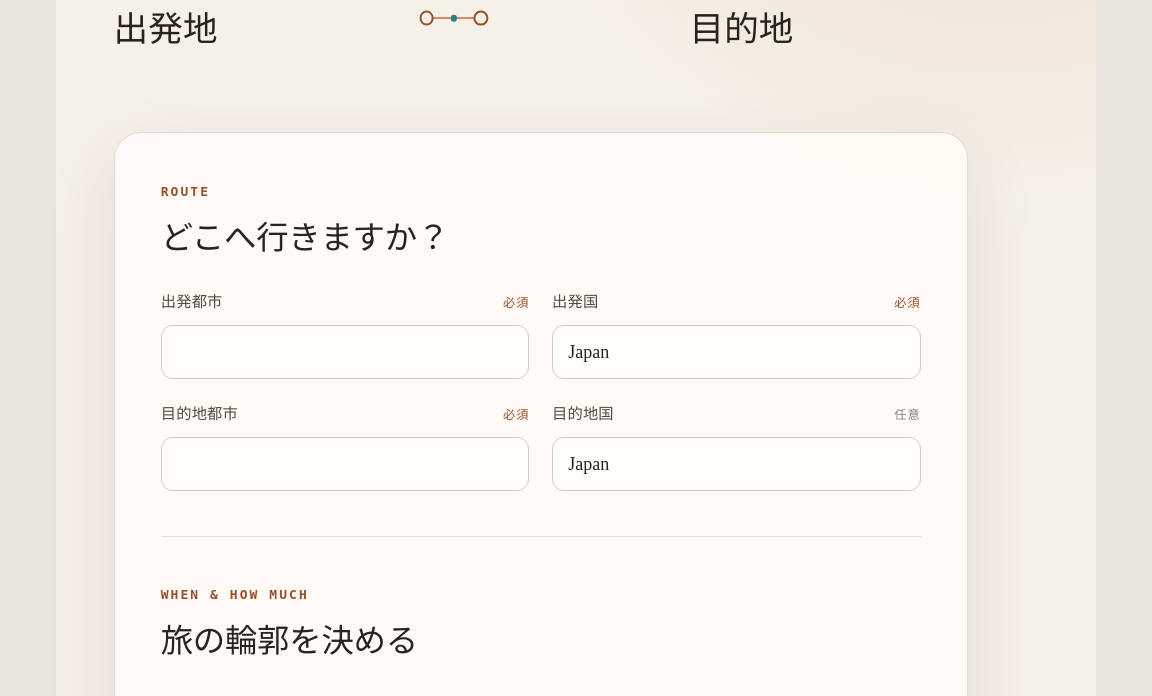
it: JourneyCreationPage › 異常系: 作成失敗時は再送で新しいリクエストになる可能性を知らせる
The image size is (1152, 696).
(page scrolled)
Type "千葉" into the field labelled "出発都市 必須" at (345, 352), box left=161, top=325, right=530, bottom=379
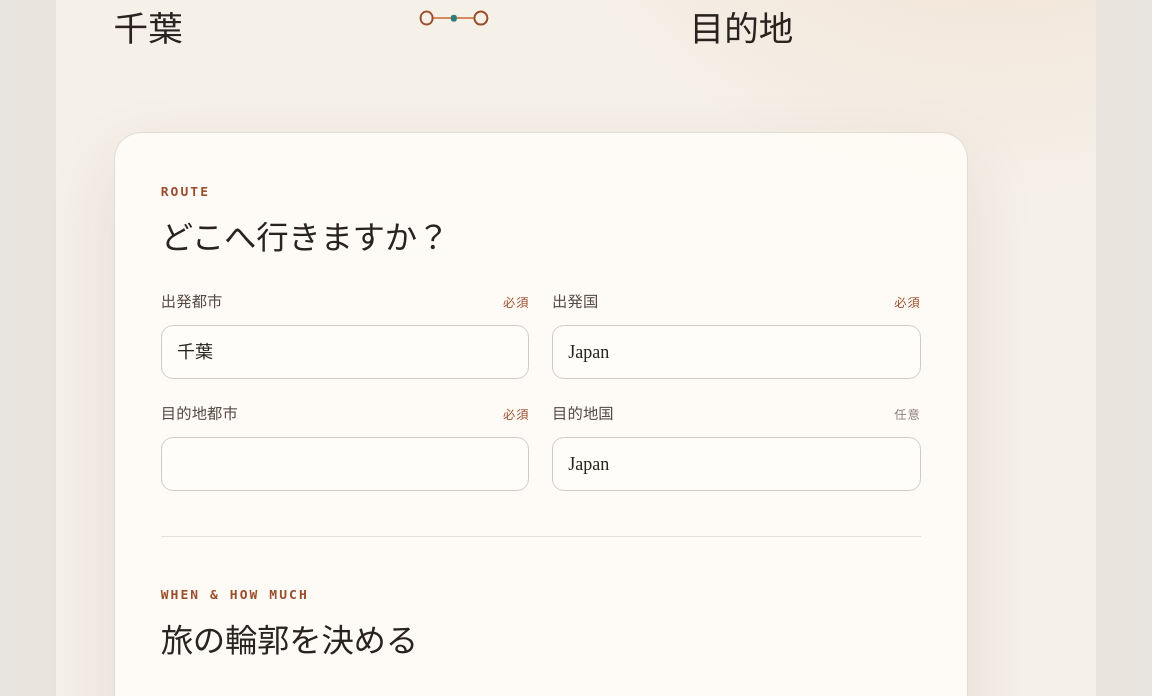
Type "宇都宮" into the field labelled "目的地都市 必須" at (345, 464), box left=161, top=437, right=530, bottom=491
(page scrolled)
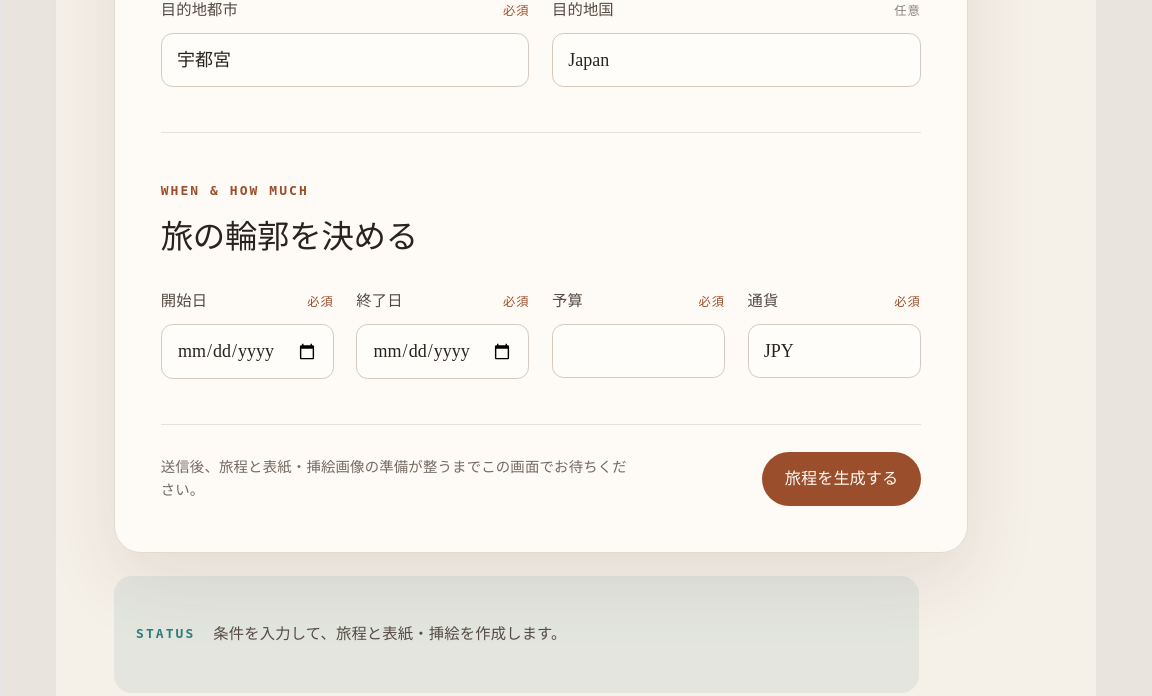
Type "2026-10-23" into the date field with id "journey-start_date" at (247, 352), box left=161, top=324, right=334, bottom=379
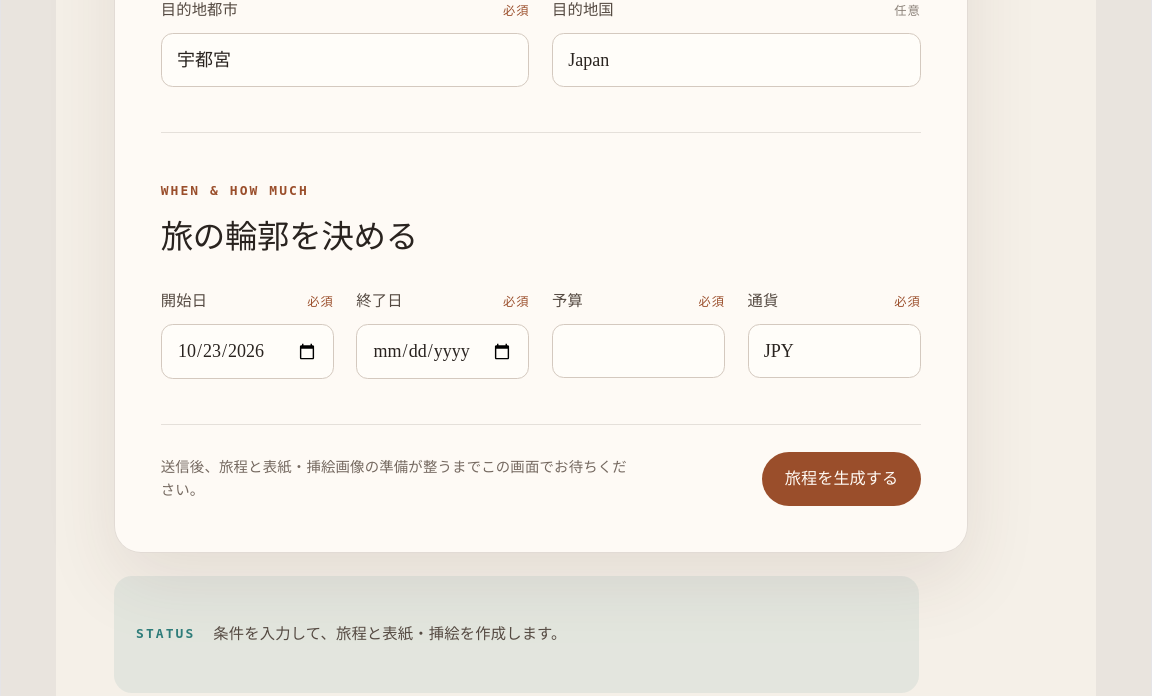
Type "2026-10-25" into the date field with id "journey-end_date" at (443, 352), box left=356, top=324, right=529, bottom=379
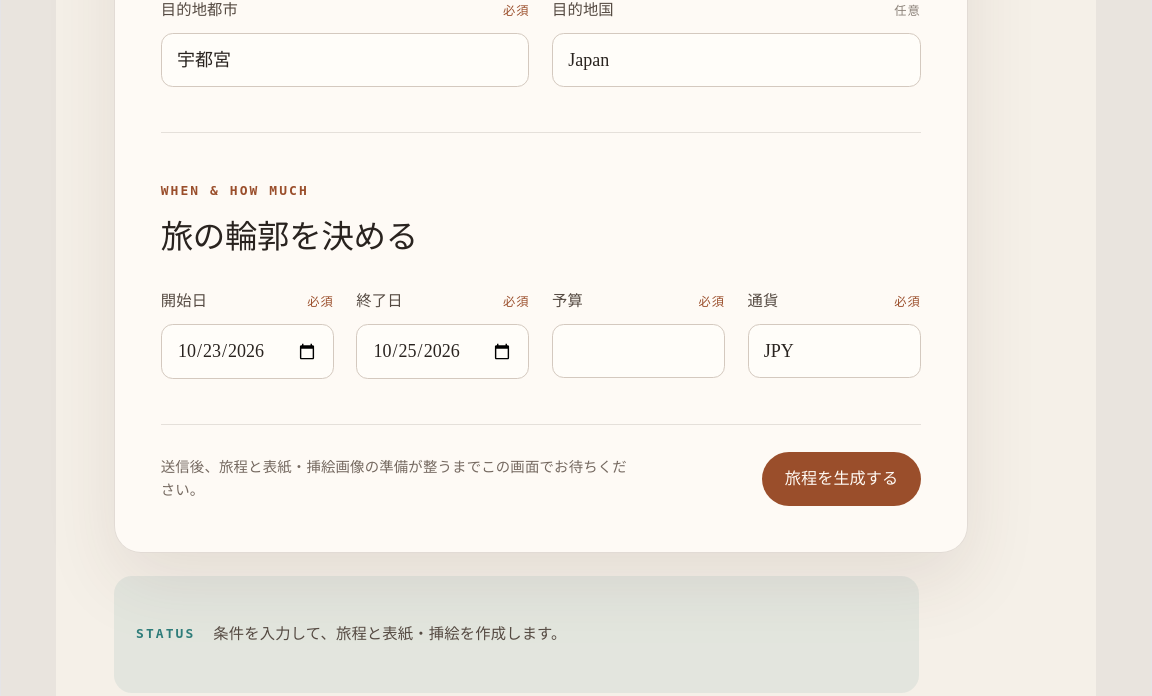
Type "90000" into the number field labelled "予算 必須" at (638, 351), box left=552, top=324, right=725, bottom=378
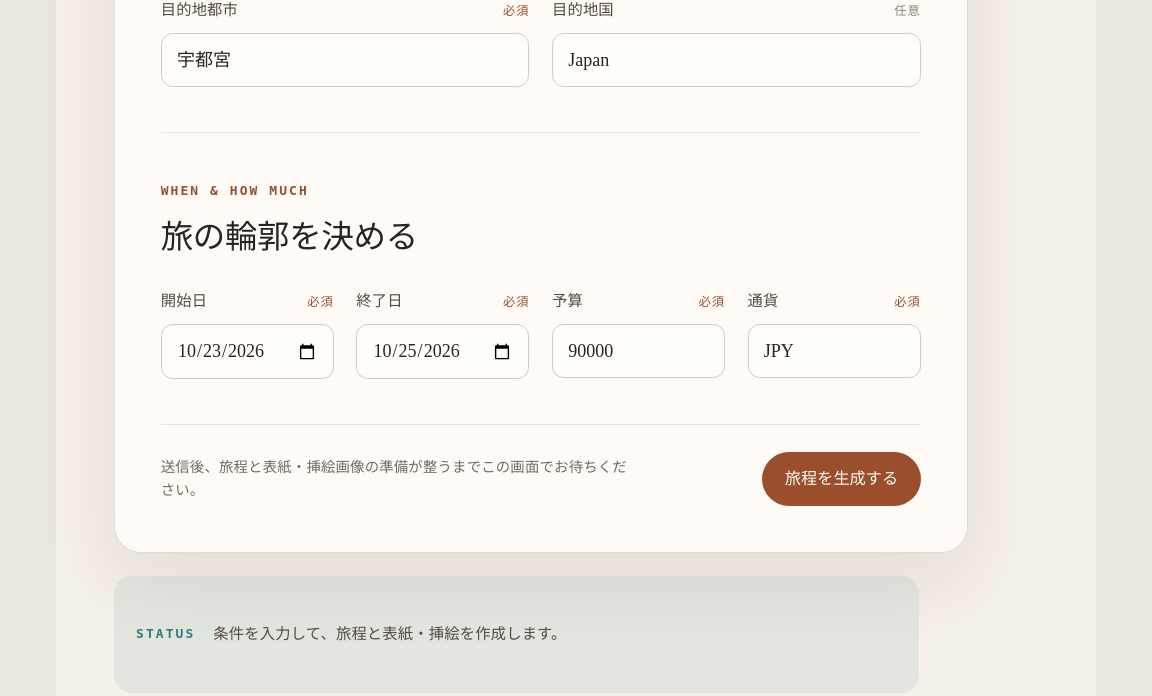
Click the button "旅程を生成する" at (842, 479), box left=762, top=452, right=921, bottom=506
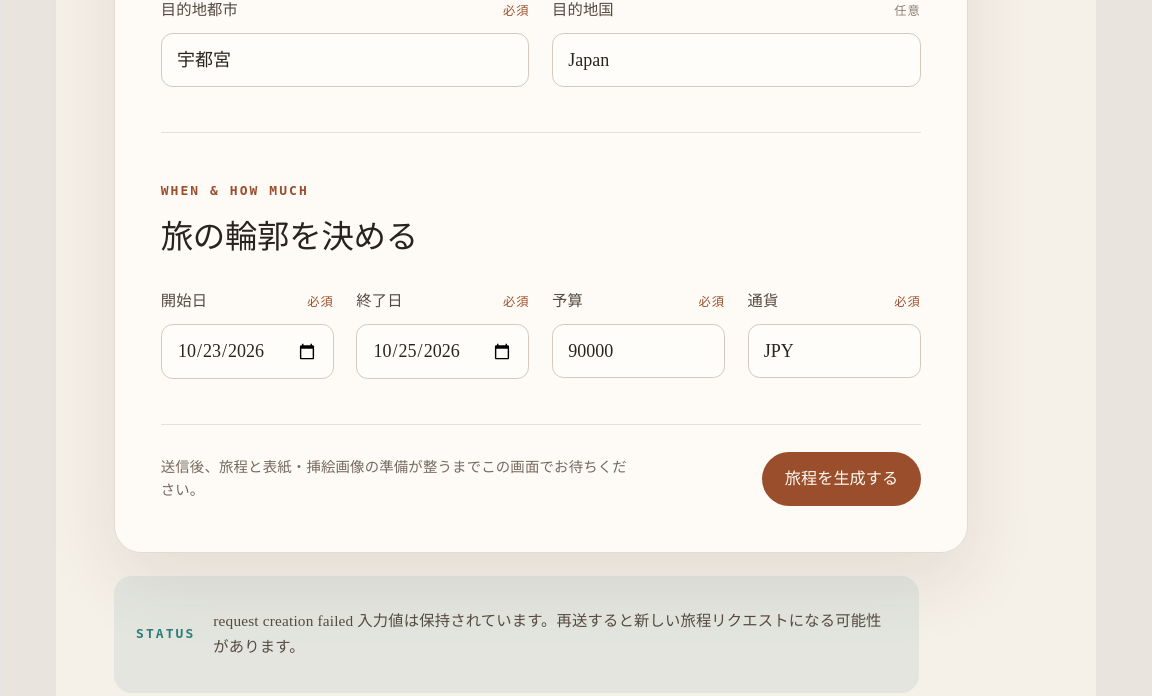
Check: the text "新しい旅程リクエストになる可能性" is shown, box left=213, top=612, right=882, bottom=655
